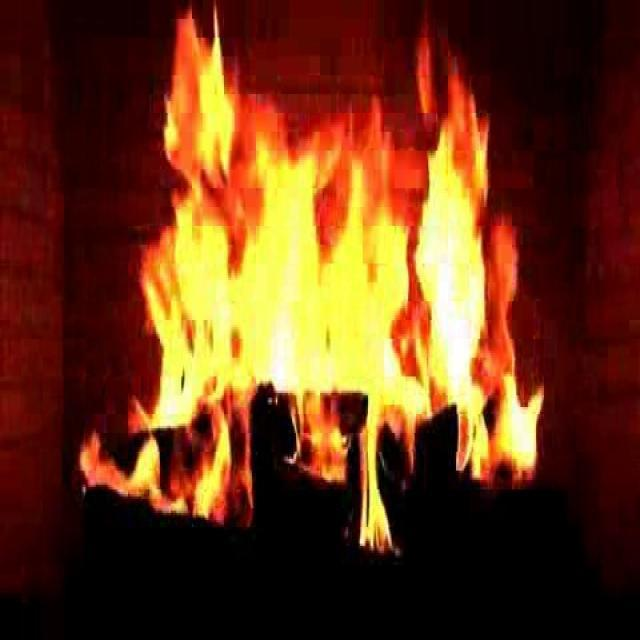Fire: (123, 0, 574, 546)
